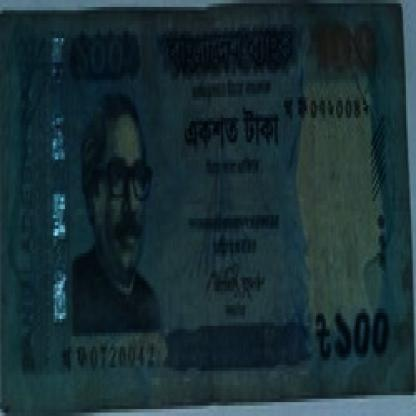one hundred taka: (332, 295, 394, 364), (311, 21, 381, 76), (70, 27, 140, 80)
